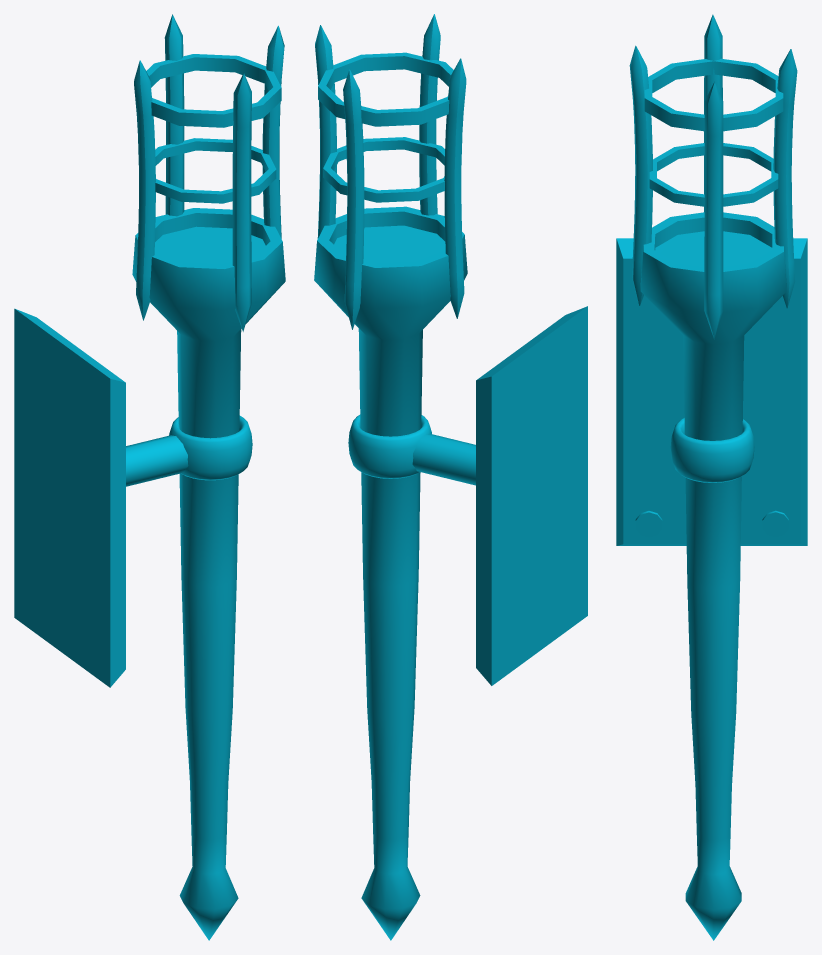
Rendered from Torch_LP.fbx.
The picture shows the model from 3 angles, left to right: view 1: azimuth 30°, elevation 25°; view 2: azimuth 150°, elevation 25°; view 3: azimuth 270°, elevation 25°; orthographic projection.
Visible parts, largest first — view 1: Torch_LP; view 2: Torch_LP; view 3: Torch_LP.
Part boxes in pixels (x1,y1,x2,y2): Torch_LP: (14,14,285,940); Torch_LP: (314,14,587,940); Torch_LP: (616,14,807,940).
Bounding box in the file's own units: 12.12 × 46.51 × 9.02.
